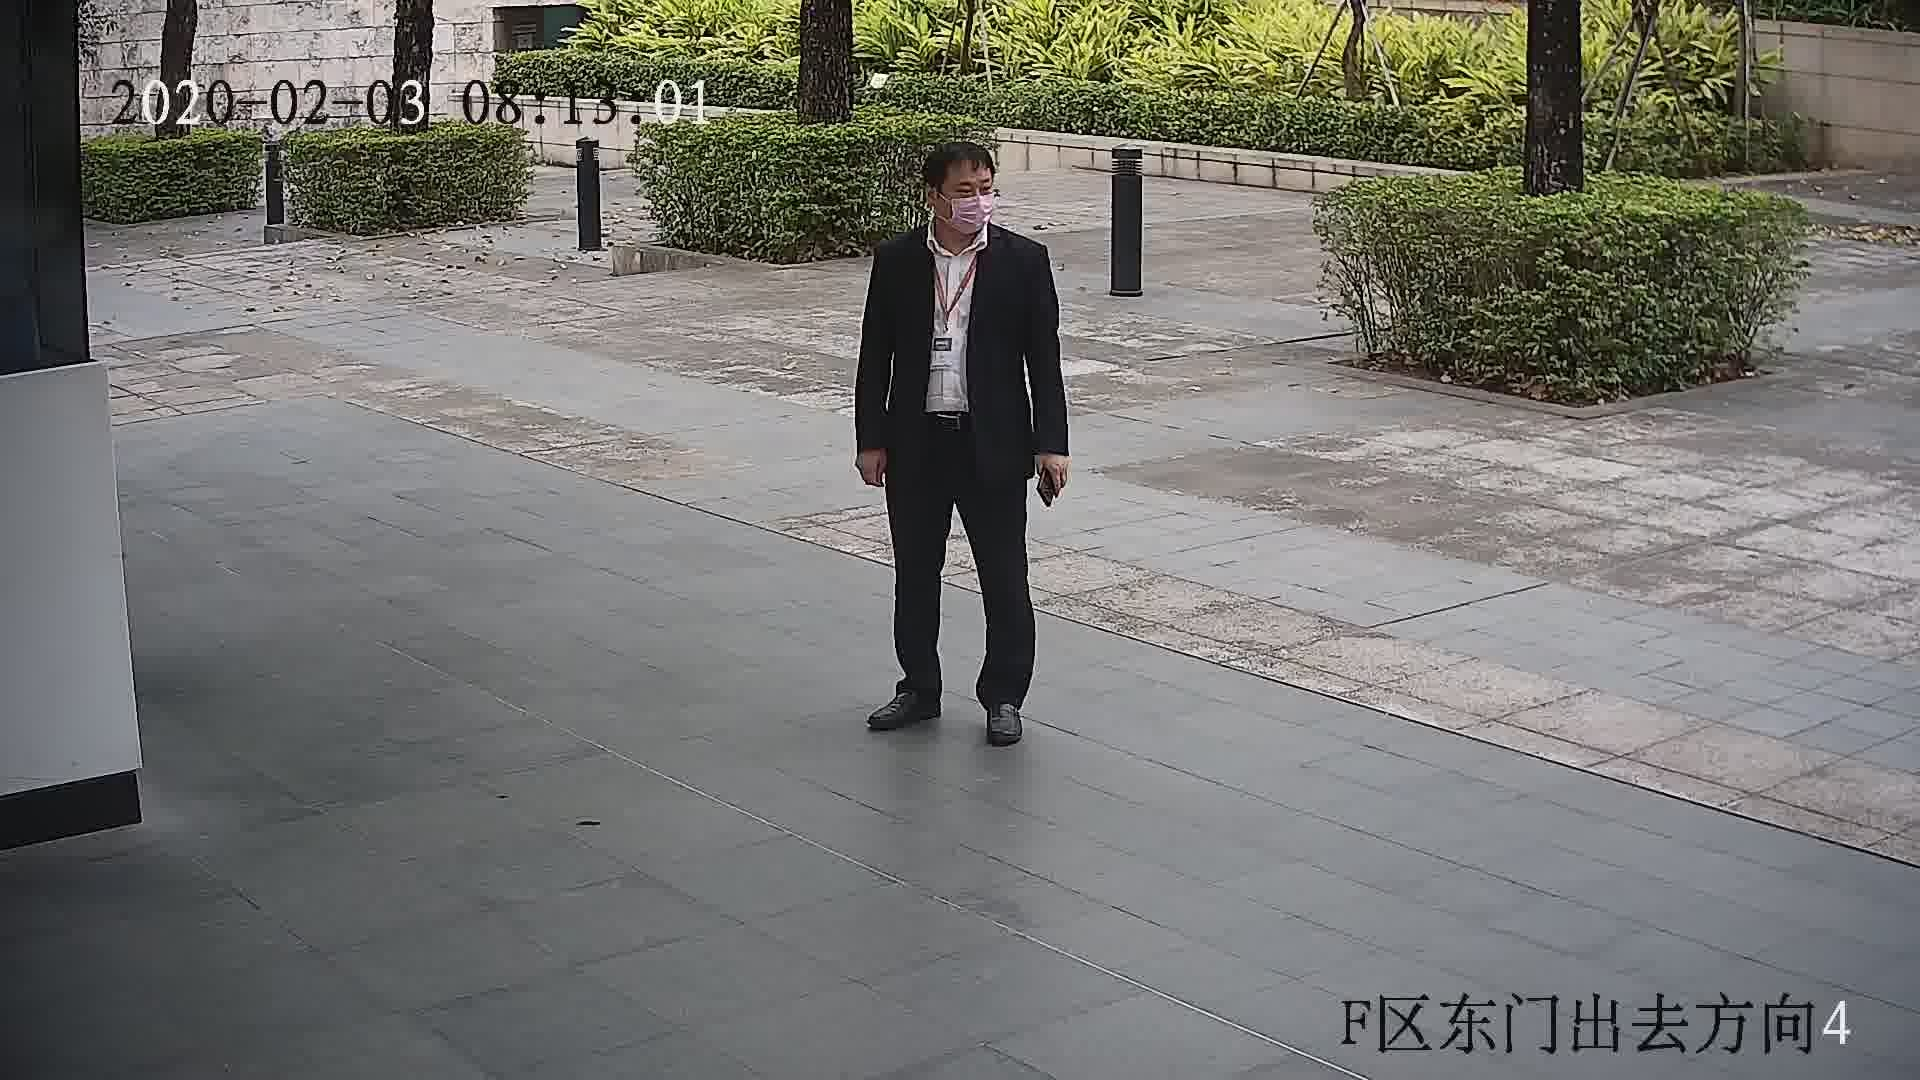face: (926, 161, 1003, 239)
mask: (944, 188, 999, 235)
person: (872, 142, 1043, 280)
